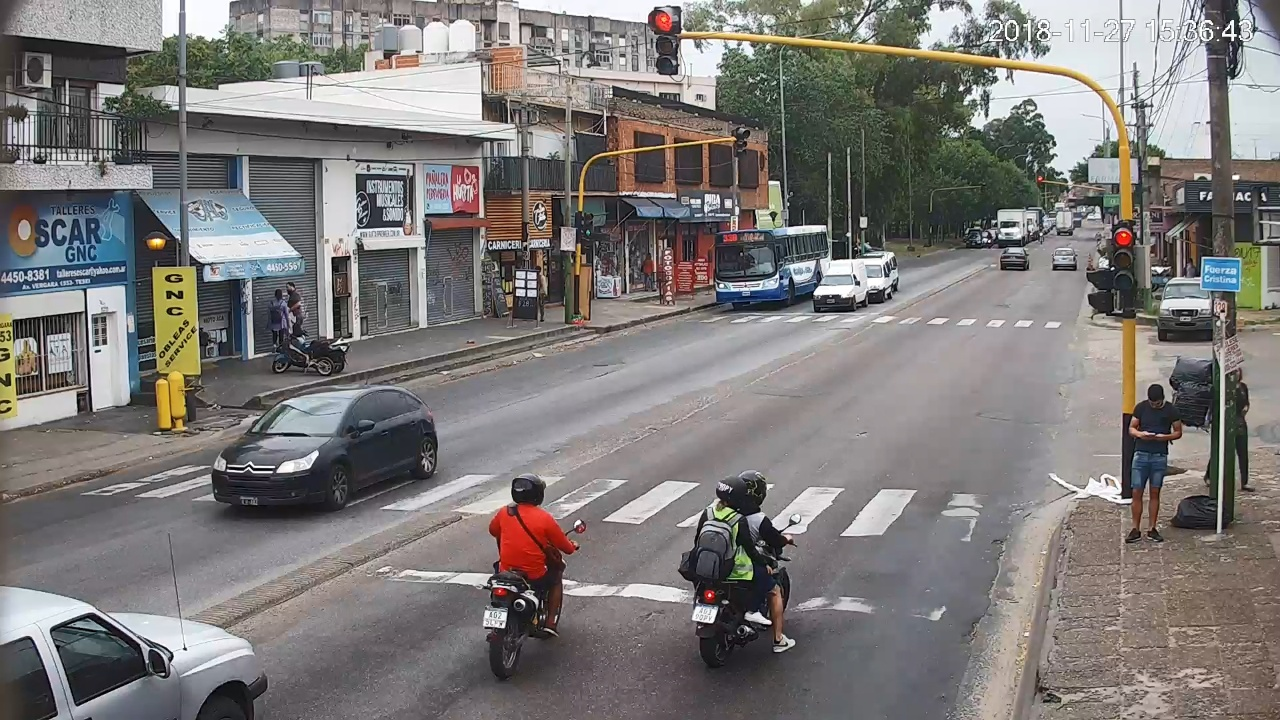car: (1, 584, 267, 720)
front car: (212, 386, 439, 510)
motorcycle: (678, 511, 802, 669), (477, 517, 586, 677)
person: (1126, 384, 1182, 543)
traffic light: (656, 8, 678, 75), (1114, 226, 1133, 291)
